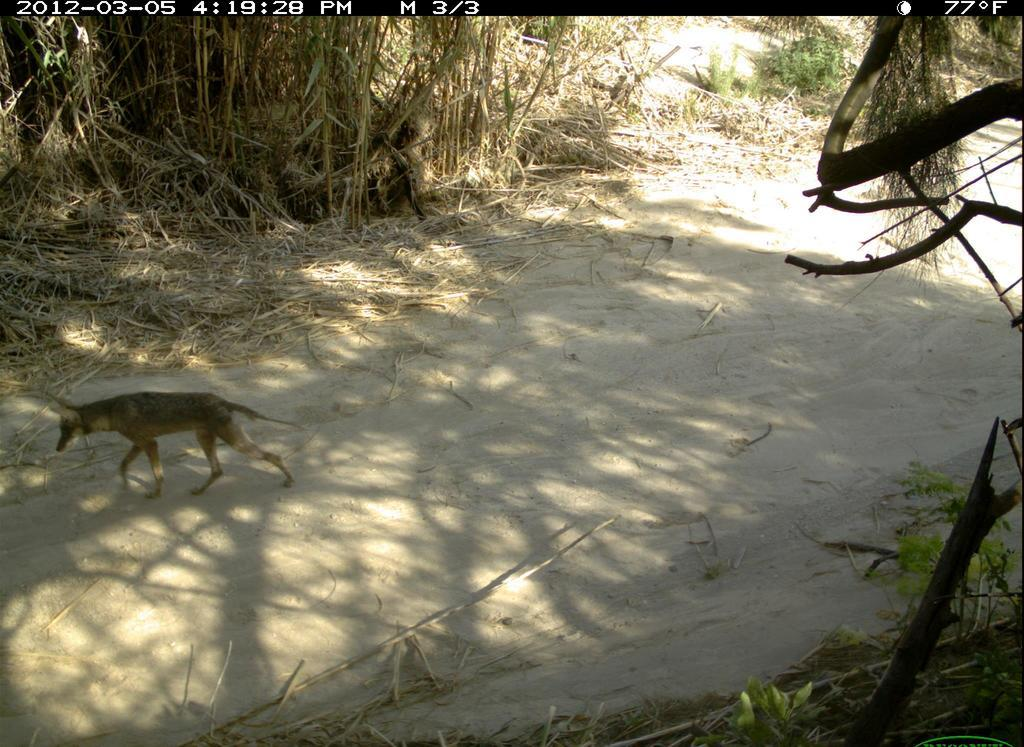coyote: (39, 385, 299, 506)
